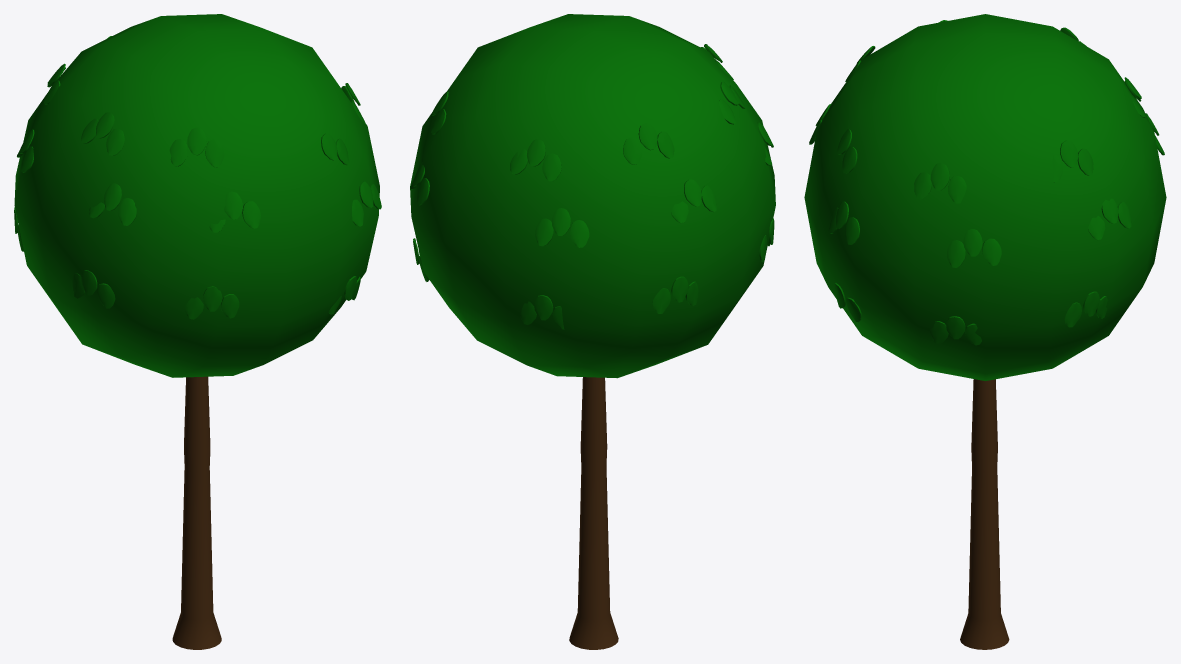
Rendered from tree.fbx.
3 renders of one model, left to right at view 1: azimuth 30°, elevation 25°; view 2: azimuth 150°, elevation 25°; view 3: azimuth 270°, elevation 25°, orthographic.
Visible parts, largest first — view 1: pCube23, pCylinder1; view 2: pCube23, pCylinder1; view 3: pCube23, pCylinder1.
Boxes of the visible parts, left/top/right/bottom form: pCube23: left=14, top=14, right=379, bottom=377; pCylinder1: left=172, top=376, right=221, bottom=649; pCube23: left=410, top=14, right=775, bottom=378; pCylinder1: left=569, top=377, right=618, bottom=649; pCube23: left=804, top=14, right=1166, bottom=380; pCylinder1: left=960, top=379, right=1009, bottom=649.
Size of the model in its own units: 0.8855 by 1.62 by 0.8785.
